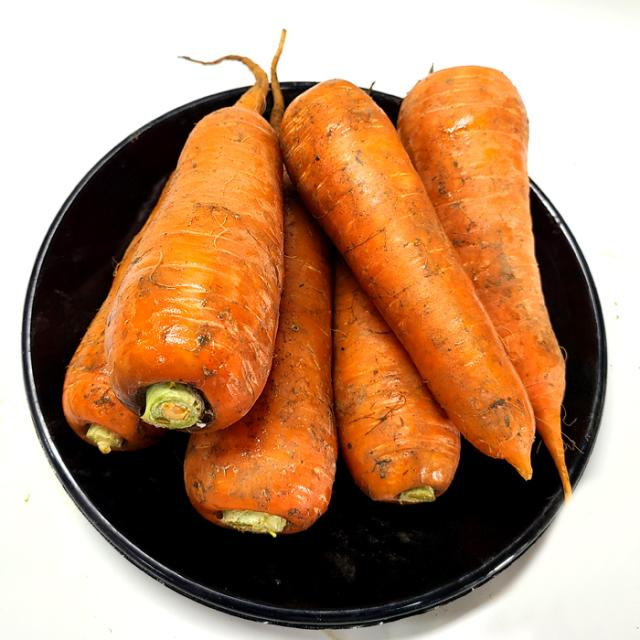carrot: (282, 76, 540, 483), (405, 65, 576, 504), (109, 70, 287, 429)
